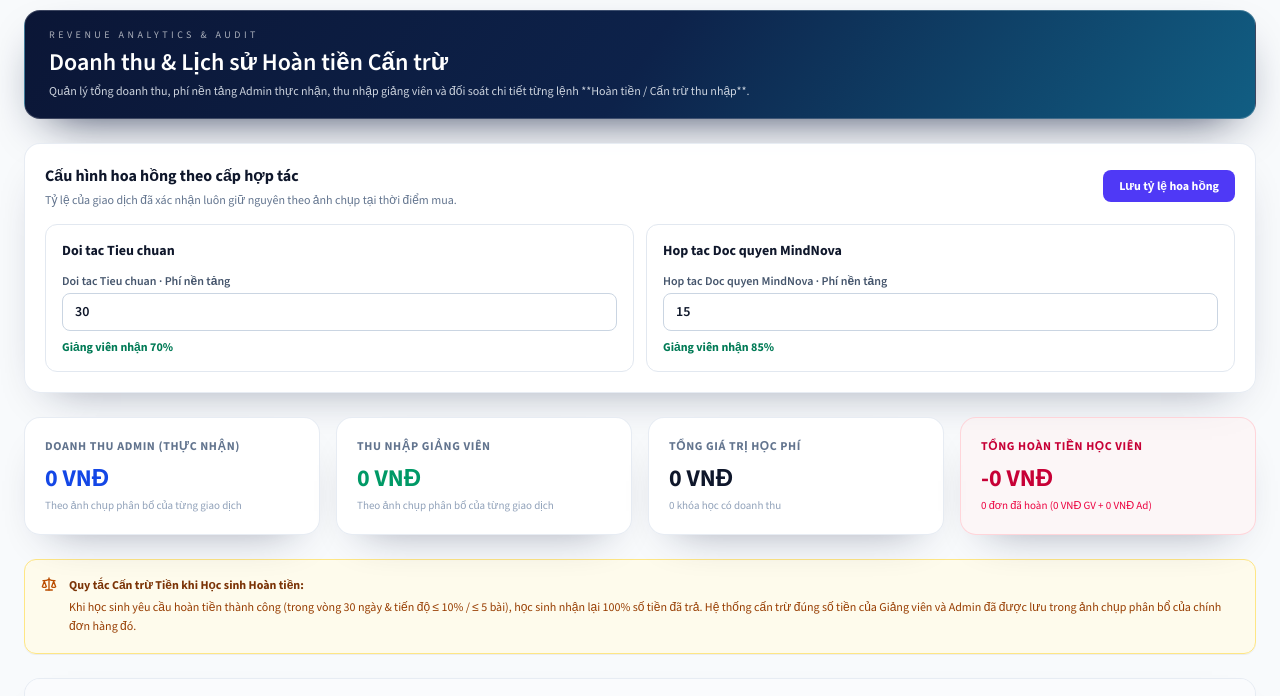
Scenario: AdminRevenueView commission tiers › saves edited platform percentages and derives the instructor share
Replace the text in the number field labelled "Doi tac Tieu chuan · Phí nền tảng" with "22". click: point(340, 312)
box: [62,292,617,330]
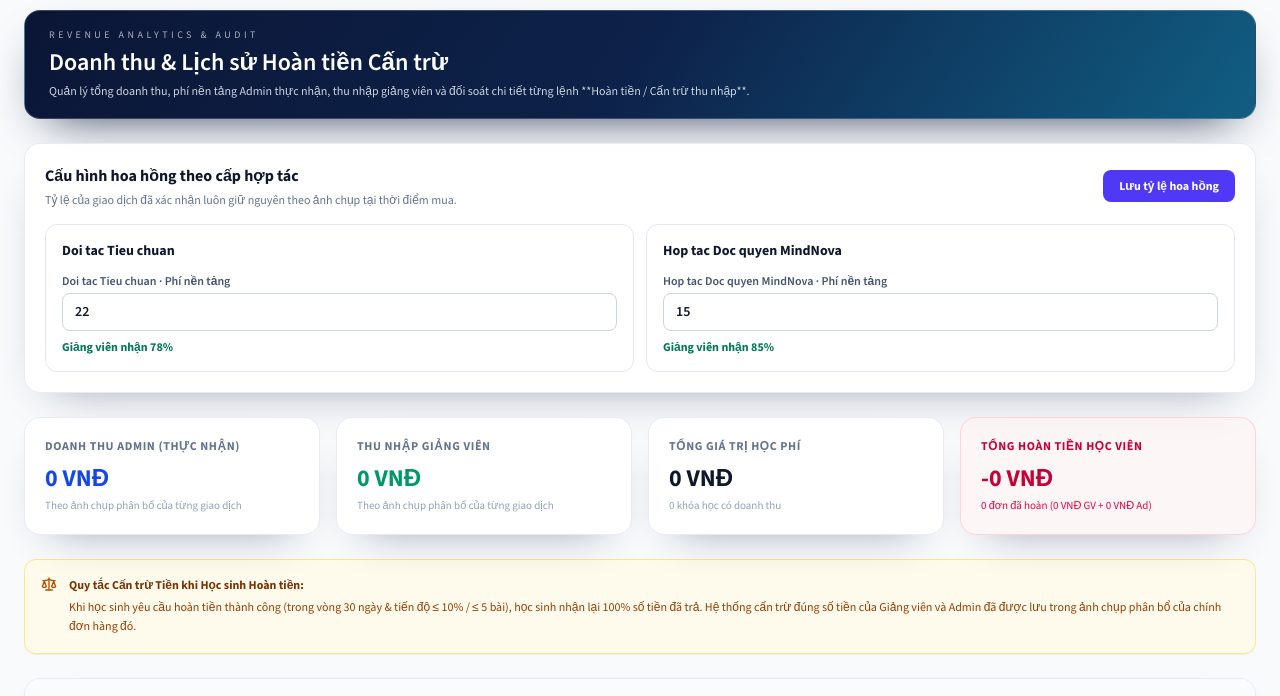
Result: the text "Giảng viên nhận 78%" is shown at [62,338,173,354]
Click the button "Lưu tỷ lệ hoa hồng". click: point(1169, 186)
box: [1103,170,1235,202]
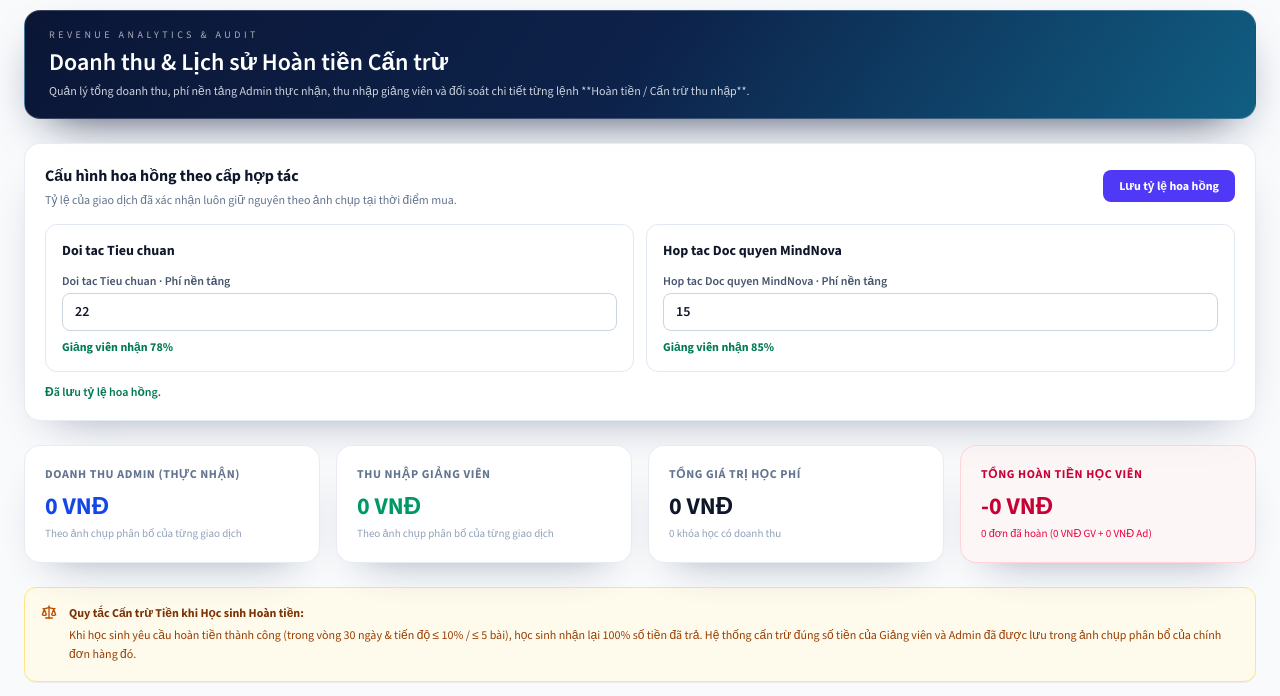
Result: the message shows "Đã lưu tỷ lệ hoa hồng" at [45,384,161,400]
